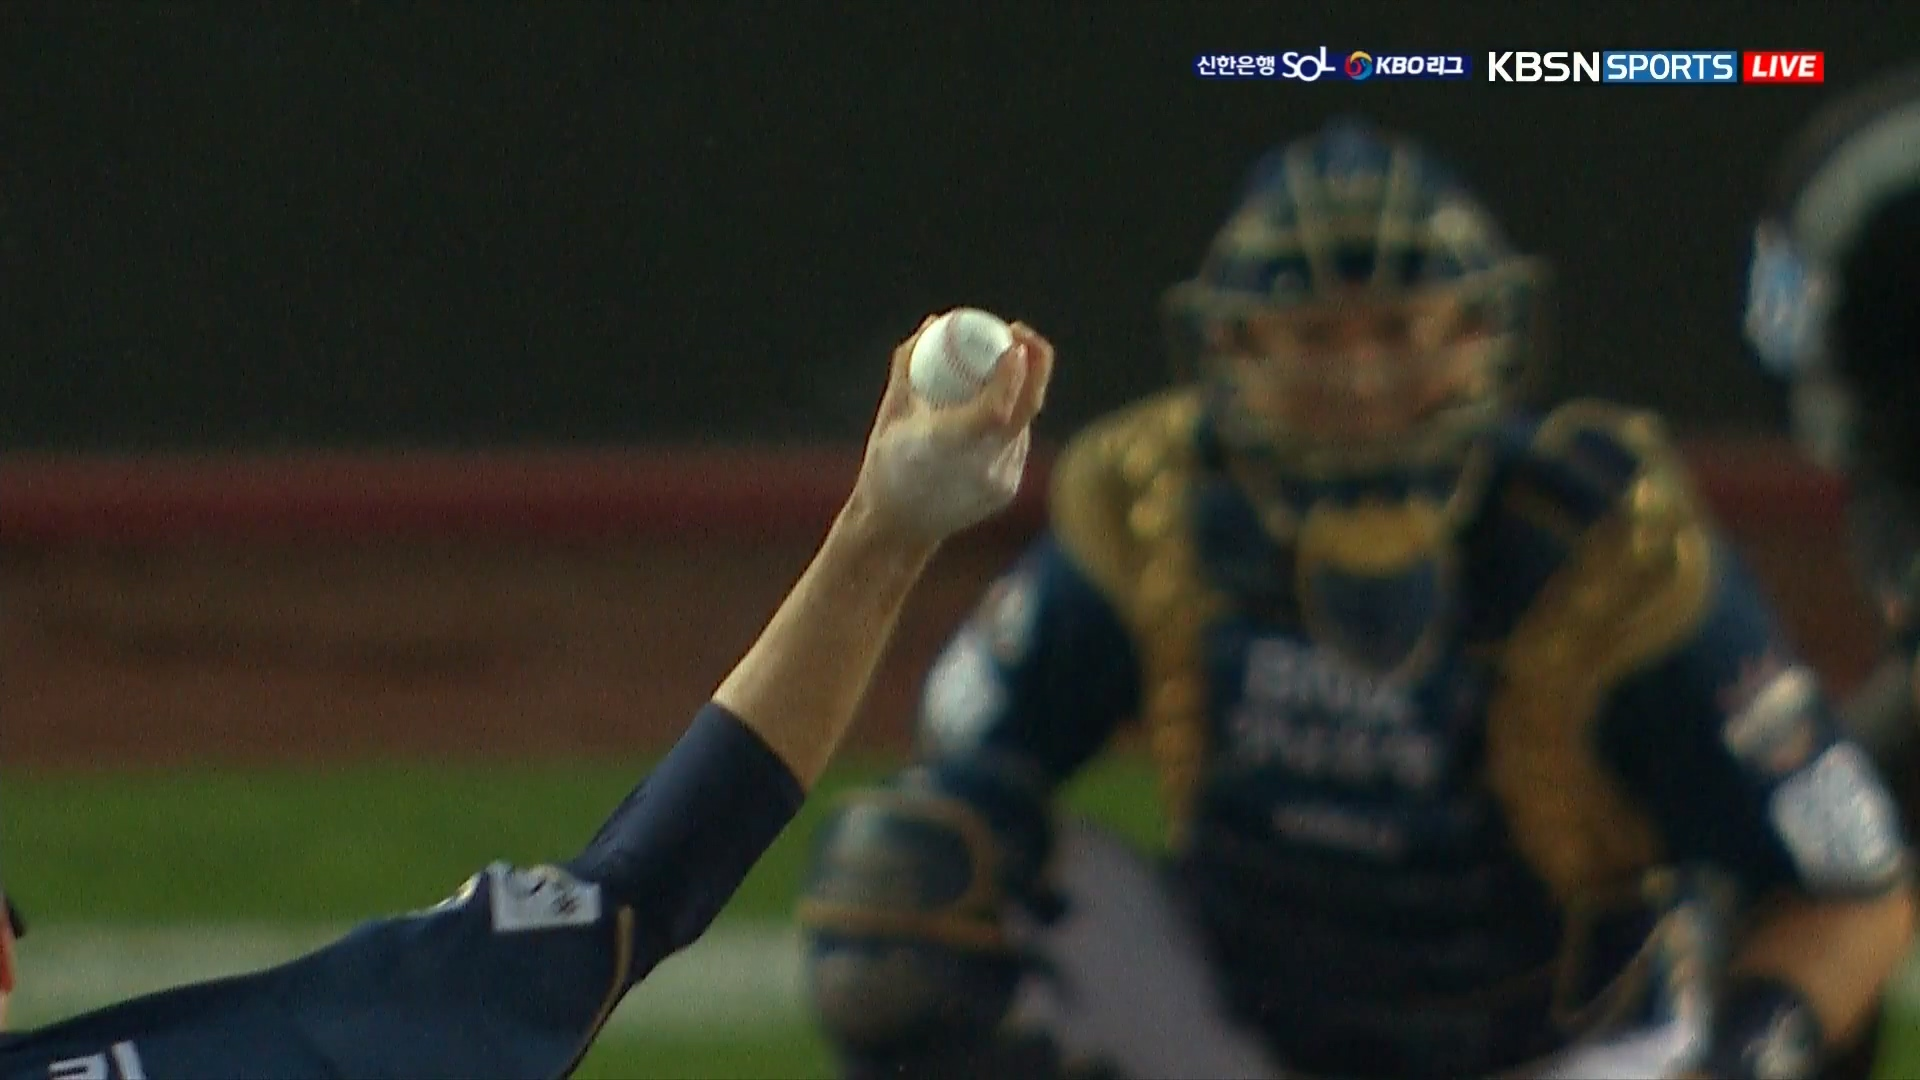zoomin_hand: (615, 298, 1062, 992)
